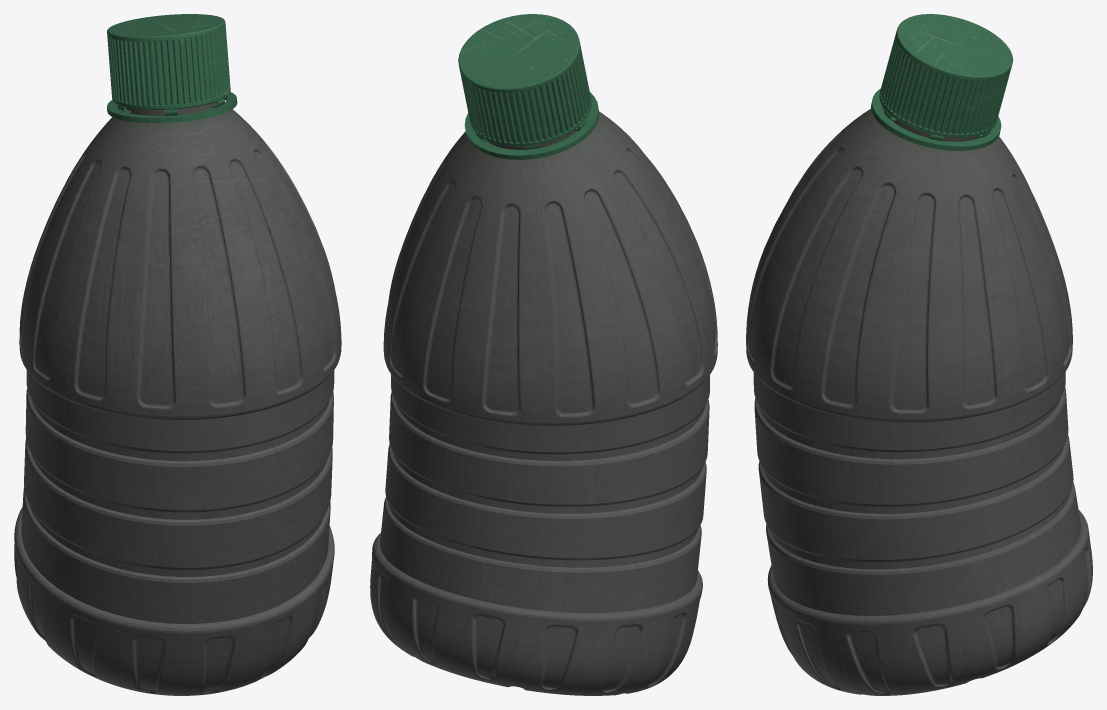
File: bend_low_1.obj
3 renders of one model, left to right at view 1: azimuth 30°, elevation 25°; view 2: azimuth 150°, elevation 25°; view 3: azimuth 270°, elevation 25°, orthographic. The views are drawn at different scales.
Parts seen in each view (by area): view 1: model; view 2: model; view 3: model.
Part boxes in pixels (x1,y1,x2,y2): model: (14, 14, 341, 695); model: (370, 14, 717, 695); model: (746, 14, 1092, 695).
Size of the model in its own units: 0.1241 by 0.2647 by 0.1305.
Materials: 1 (1 with a texture image).
